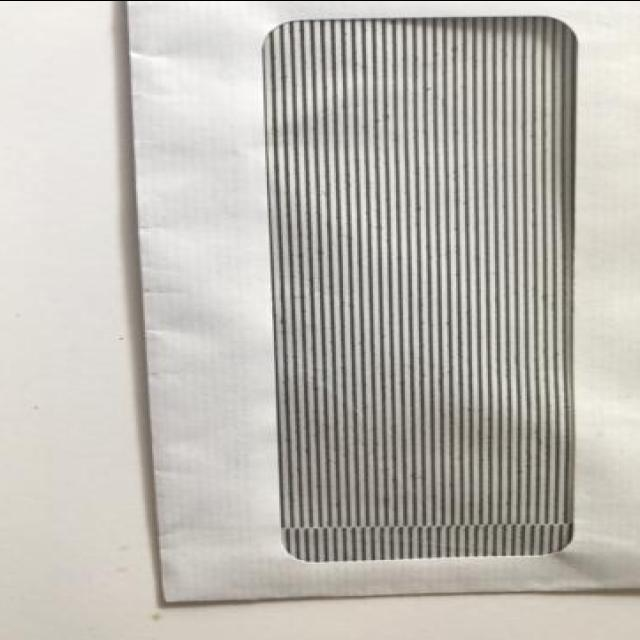kertas: (121, 0, 640, 602)
